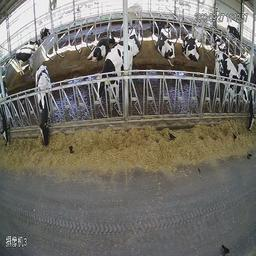cow: (97, 41, 134, 105), (215, 49, 240, 105), (35, 65, 51, 146), (237, 65, 255, 131), (15, 41, 41, 74), (0, 78, 12, 146), (89, 33, 118, 61), (182, 27, 200, 63), (153, 28, 173, 59), (128, 25, 140, 54), (242, 47, 255, 73), (127, 2, 142, 24), (194, 22, 208, 45), (212, 29, 226, 49), (227, 22, 242, 40), (149, 20, 165, 33), (38, 26, 52, 39)
